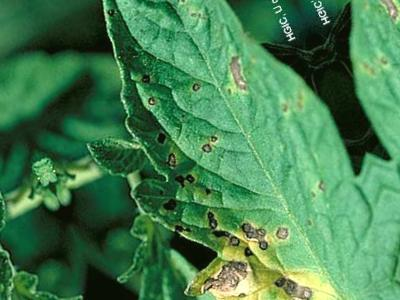Tomato Early blight leaf: (50, 0, 399, 300)
